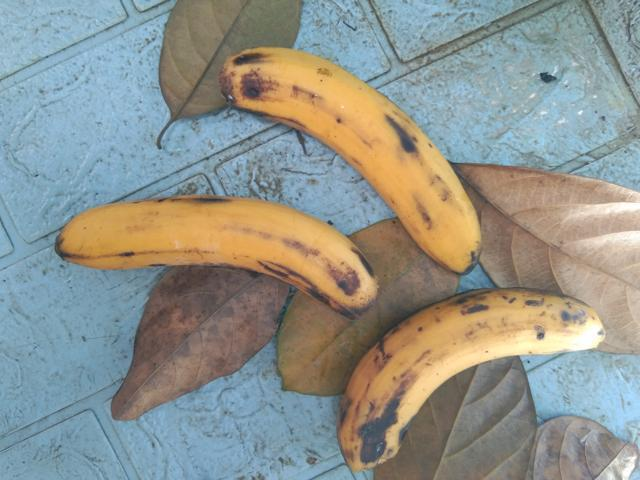overripe: (210, 34, 499, 282), (315, 280, 614, 479)
ripe: (40, 182, 394, 339)
